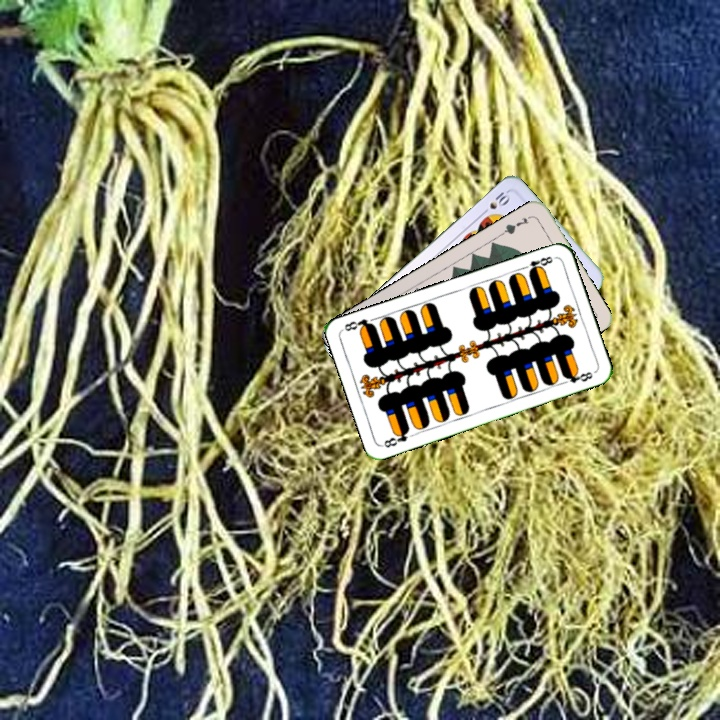E8: (518, 252, 555, 276), (379, 424, 412, 450)
G7: (498, 213, 531, 238)
S10: (477, 187, 513, 218)
